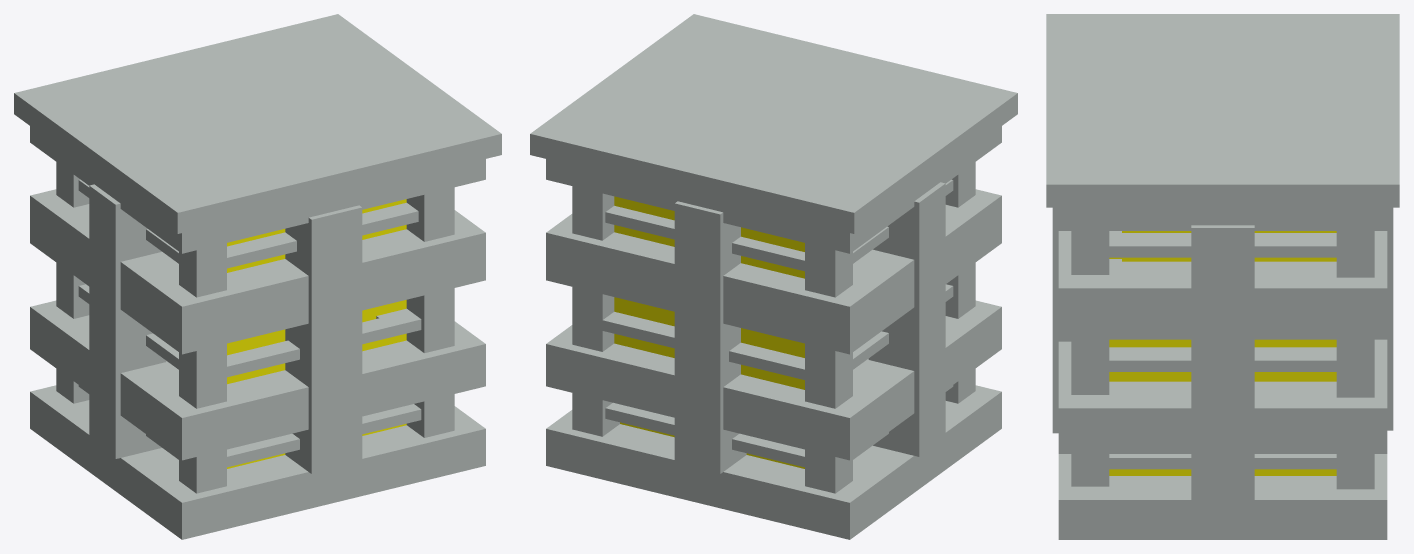
The model's file is Building002(2).obj.
3 renders of one model, left to right at view 1: azimuth 30°, elevation 25°; view 2: azimuth 150°, elevation 25°; view 3: azimuth 270°, elevation 25°, orthographic. The views are drawn at different scales.
Bounding box in the file's own units: 6.4 × 6.3 × 5.6.
Materials: 1 (1 with a texture image).
